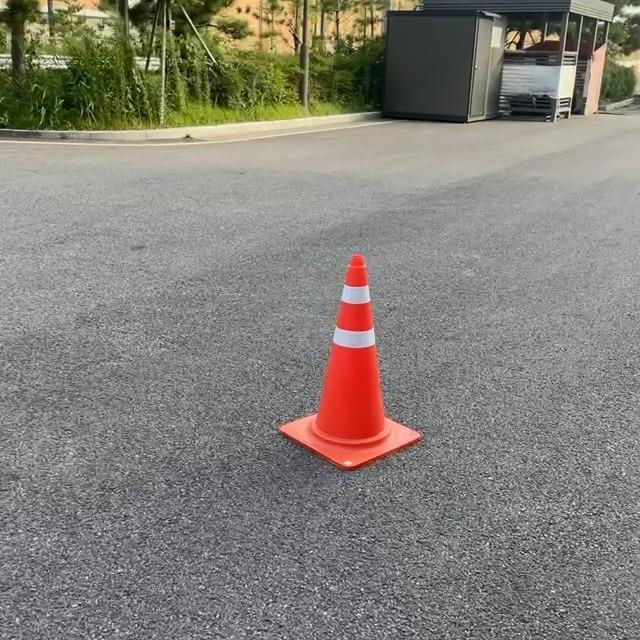fallen_object: (255, 222, 481, 509)
